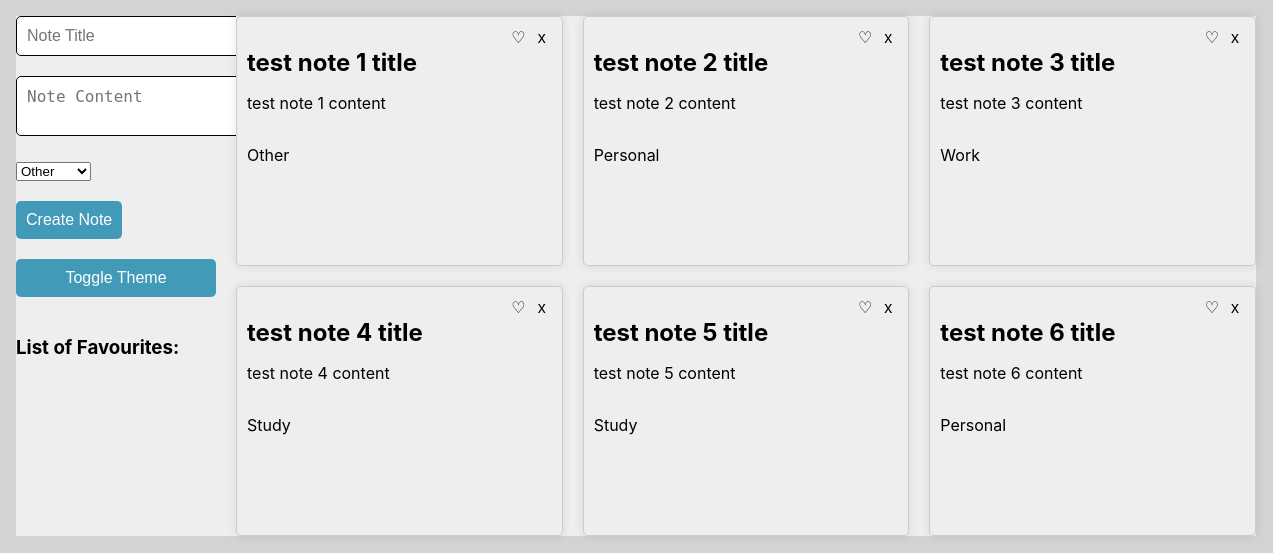
Test: note deletion › deletes note
Click the 1st button "x".
click(542, 38)  # box x1=532 y1=27 x2=552 y2=48
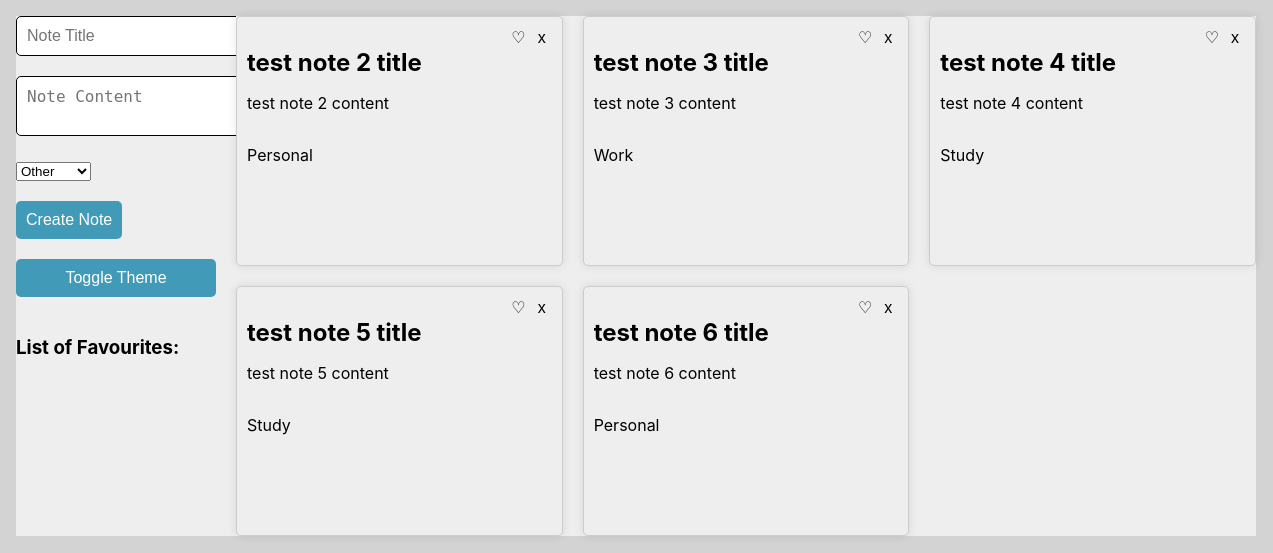
Check: the heading "test note 1 title" is gone
Check: the text box "test note 1 content" is gone
